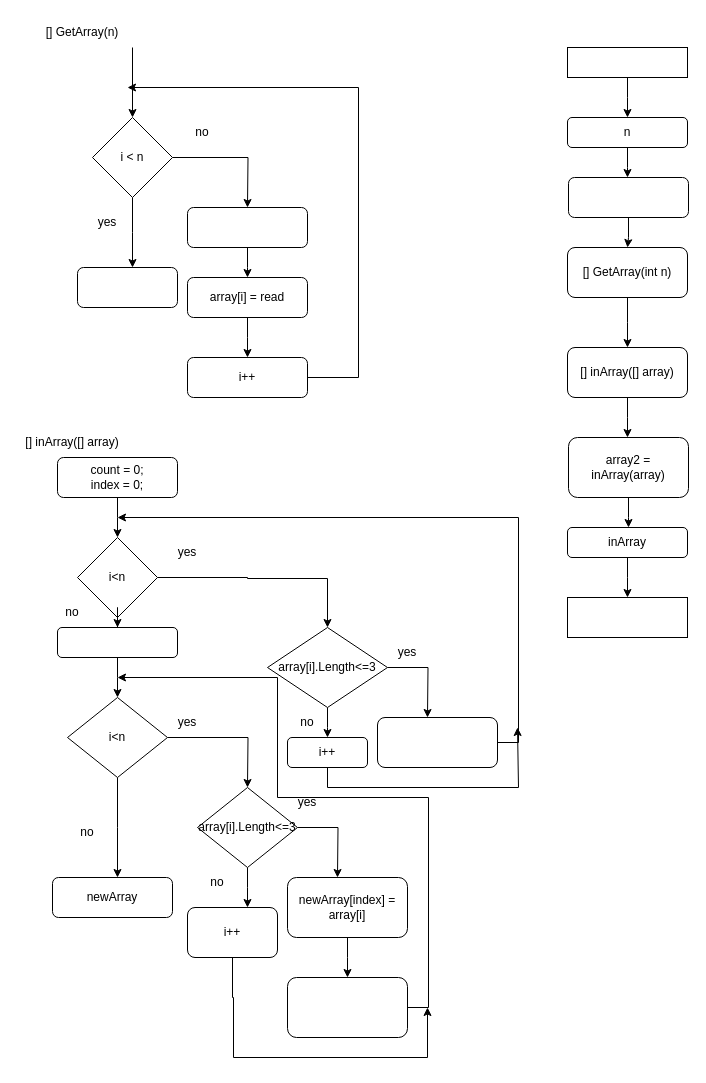
The diagram is 706 pixels wide and 1083 high, and some of its shapes have lost their labels. Here are the shapes that lost their labels. From the top down, the box of each, then its label:
(566, 46, 688, 78): начало
(568, 176, 688, 218): [] array = [n] i = 0
(186, 206, 308, 248): write{i+1}:
(76, 266, 178, 308): array
(566, 596, 688, 638): конец
(56, 626, 178, 658): [] newArray = [count]
(376, 716, 498, 768): count++; i++
(286, 976, 408, 1038): index++; i++;
